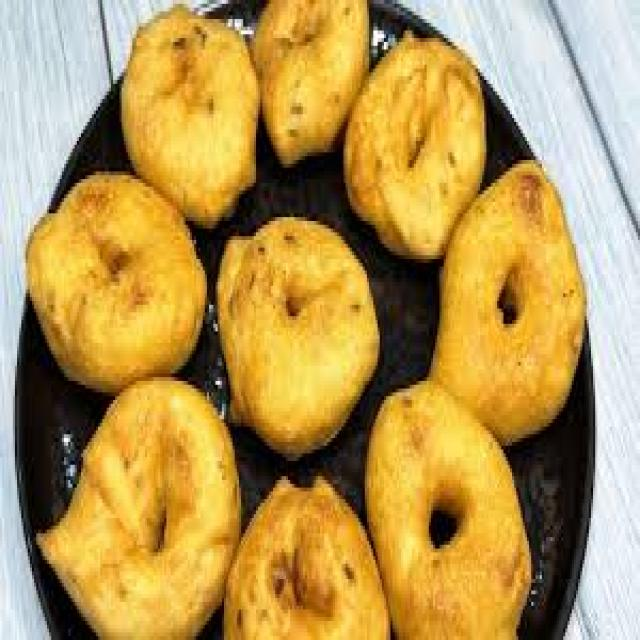MEDU VADA: (37, 381, 238, 636), (425, 157, 586, 448), (367, 381, 528, 636), (24, 178, 204, 392), (219, 222, 377, 450), (346, 31, 487, 257), (123, 4, 258, 226), (224, 478, 391, 635), (251, 0, 369, 165)
